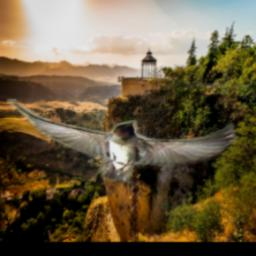Swallow: (7, 99, 238, 185)
